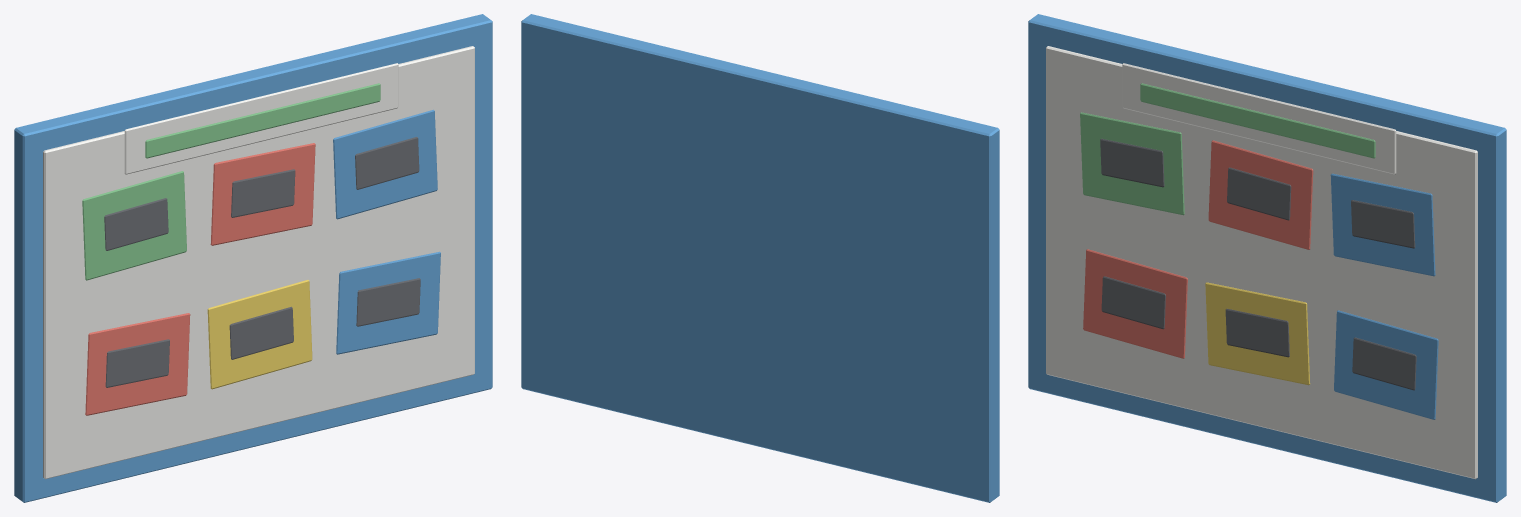
The model's file is nursery-and-primary-classroom-wall-display-board-36f30ad5__34998.glb.
3 views of the same model, side by side, from view 1: azimuth 30°, elevation 25°; view 2: azimuth 150°, elevation 25°; view 3: azimuth 330°, elevation 25° (orthographic).
Visible parts, largest first — view 1: wall-display-board; view 2: wall-display-board; view 3: wall-display-board.
Part boxes in pixels (<box>): wall-display-board: <box>14,14,492,502</box>; wall-display-board: <box>521,14,999,502</box>; wall-display-board: <box>1028,14,1506,502</box>.
Bounding box in the file's own units: 1.2 × 0.9 × 0.0665.
